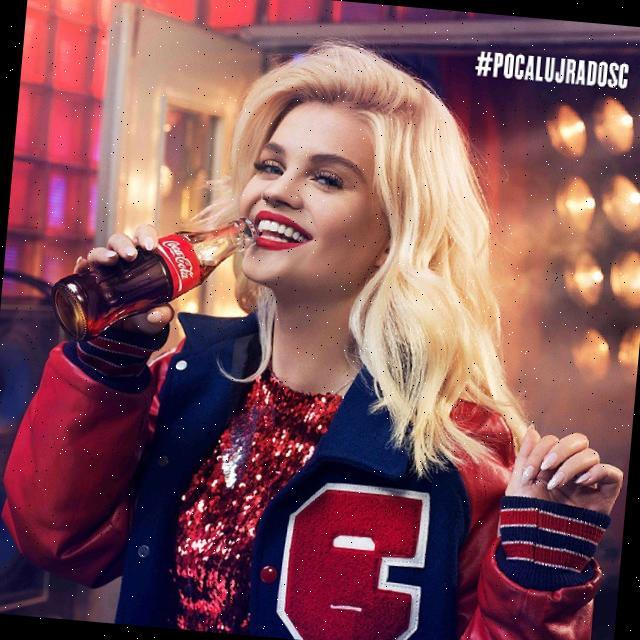coca-cola: (46, 198, 259, 355)
